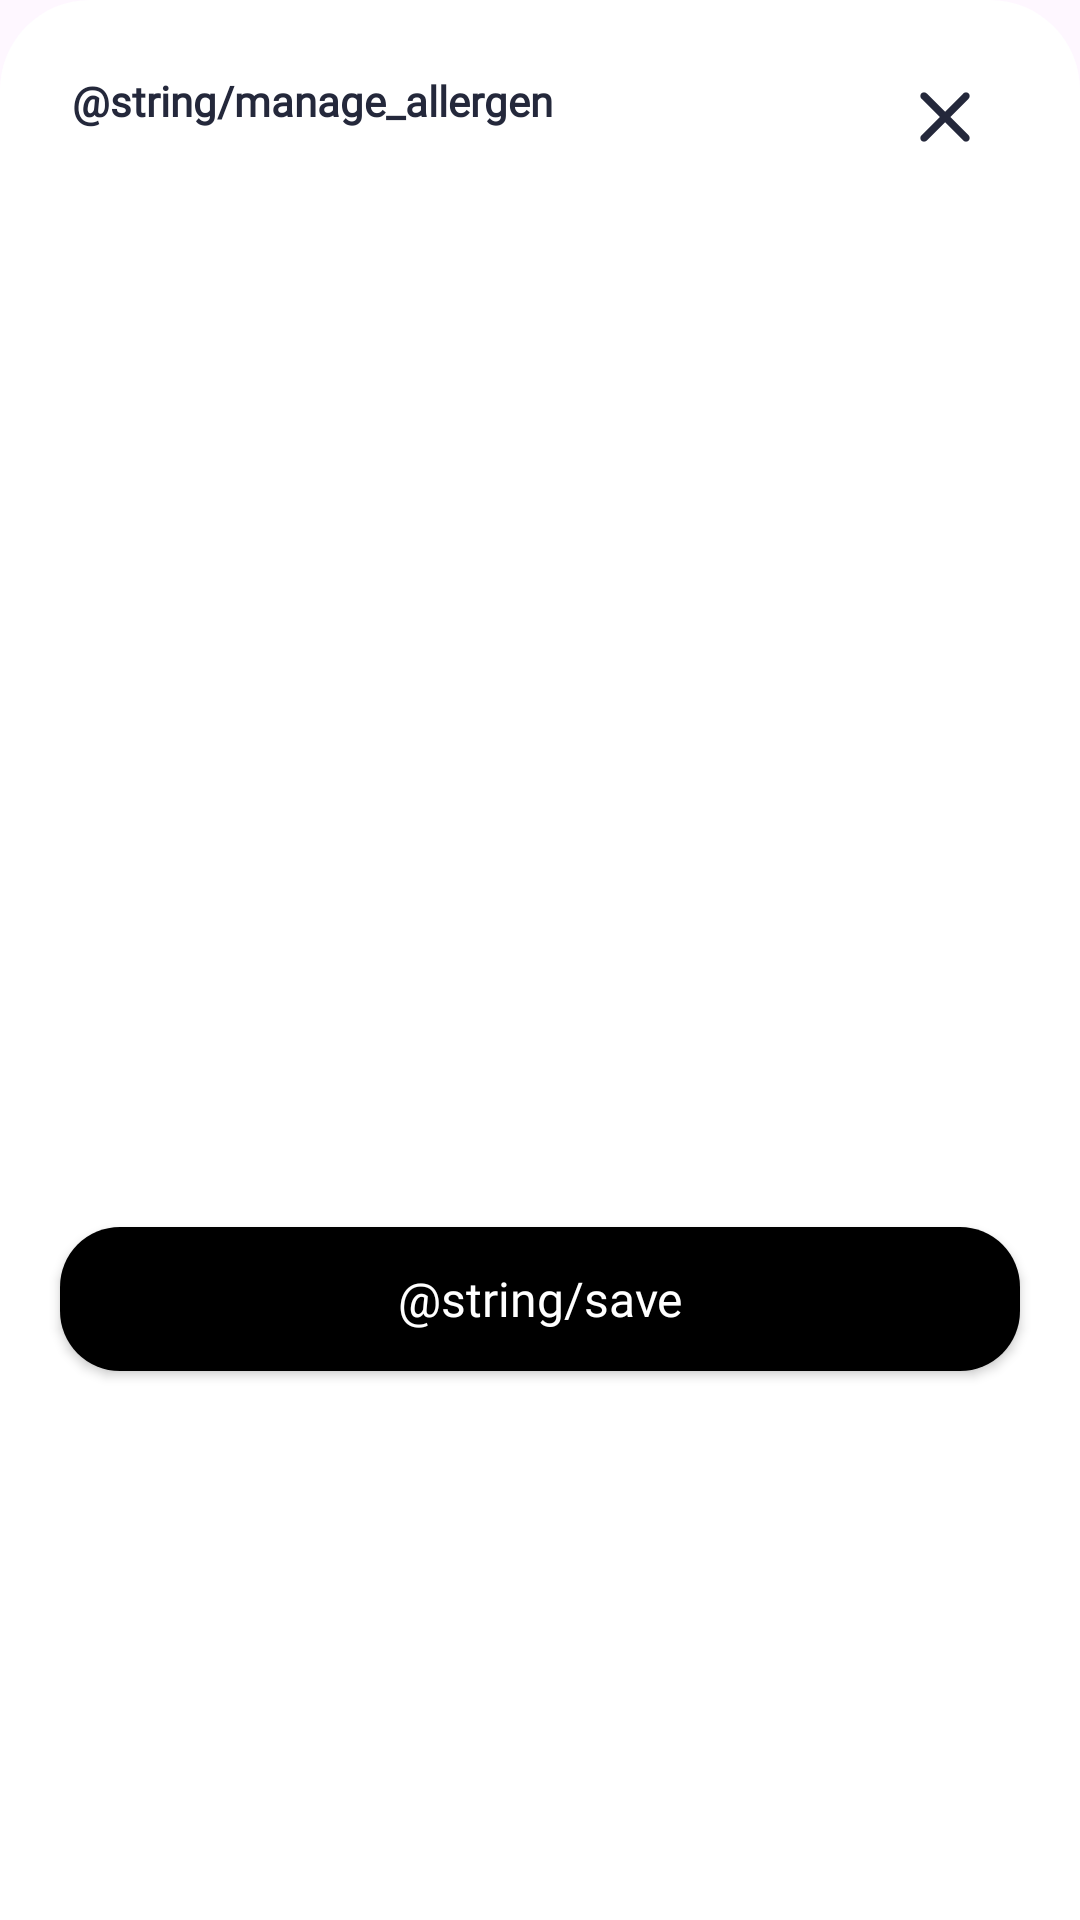

Point at icon controls on the screen. Image size 1080w x 1920h, points as point (x, y).
close: point (945, 117)
